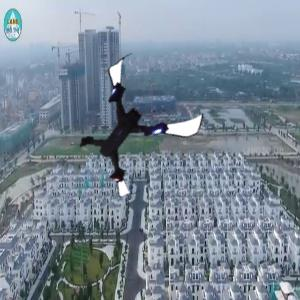drone: (69, 61, 192, 184)
